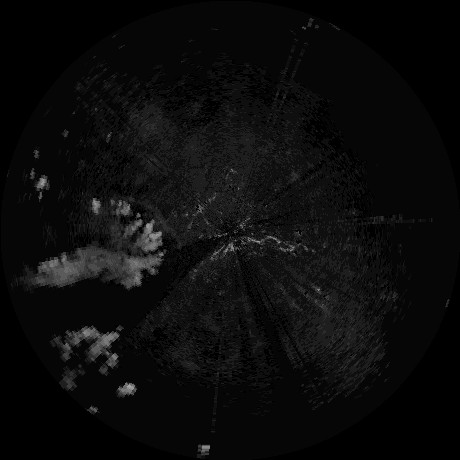frontgust: (127, 197, 180, 249)
